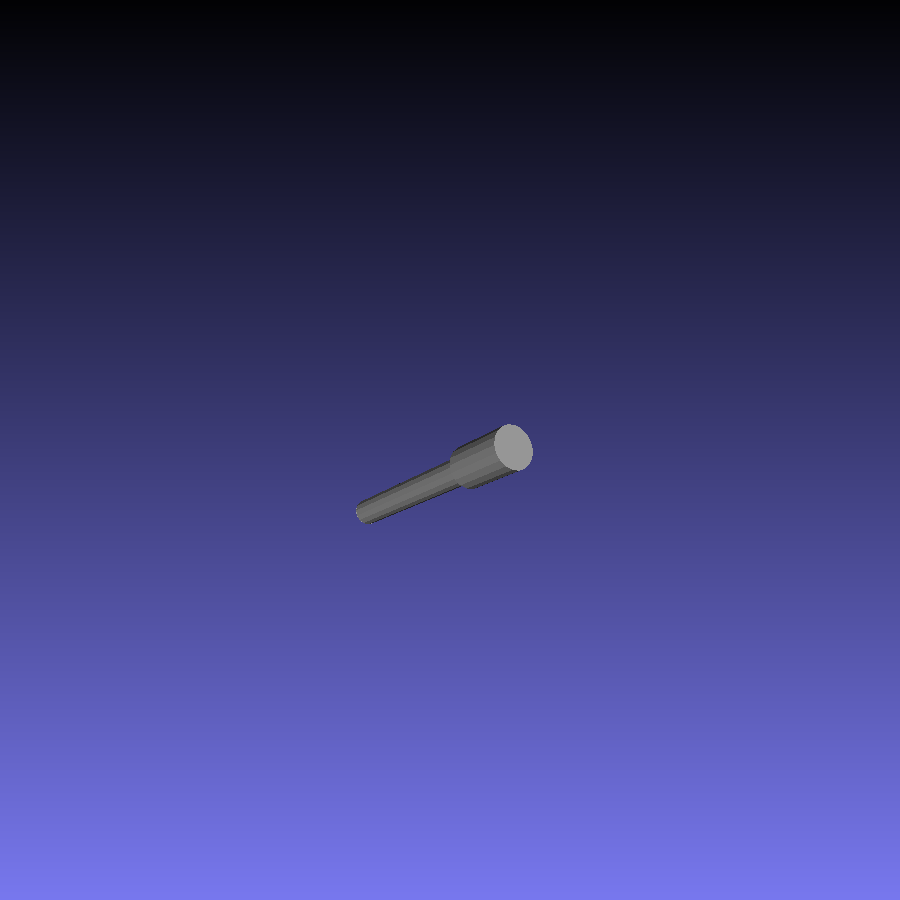cargo_g: (354, 423, 535, 525)
